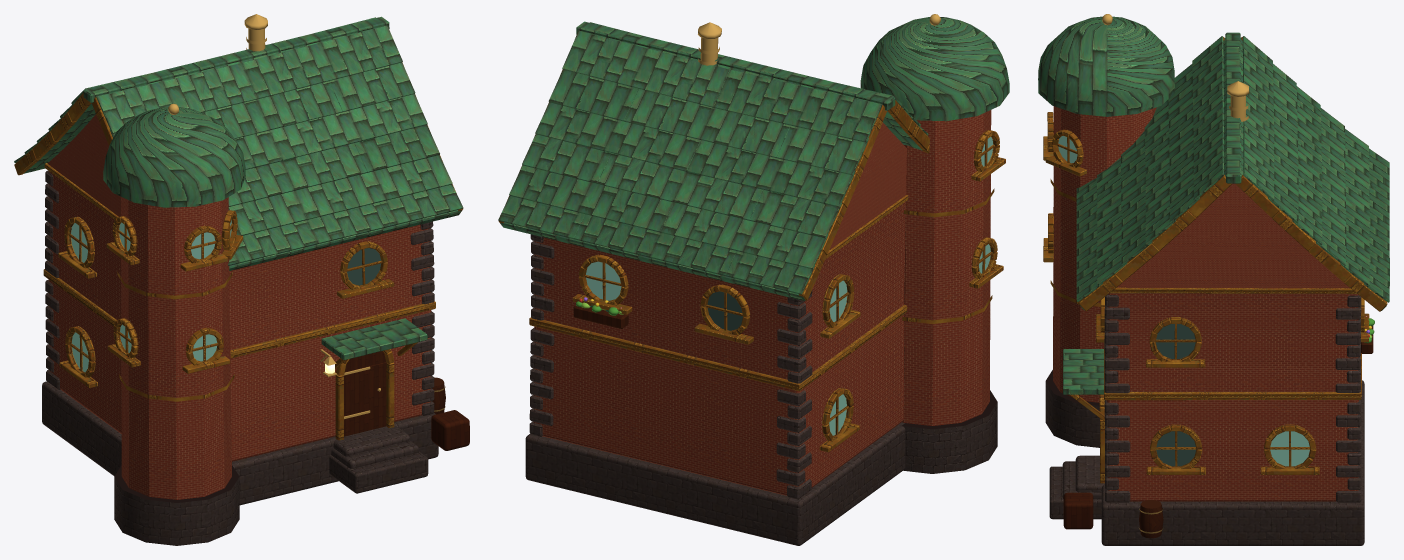
File: steam_house.gltf
The picture shows the model from 3 angles, left to right: view 1: azimuth 30°, elevation 25°; view 2: azimuth 150°, elevation 25°; view 3: azimuth 270°, elevation 25°; orthographic projection. The views are drawn at different scales.
Parts seen in each view (by area): view 1: steam_house_wall_LOD0, steam_house_roof_LOD0, steam_house_base_LOD0, steam_house_trim_LOD0, steam_house_door_LOD0, steam_house_glow_3A5048_LOD0, steam_house_metal_LOD0, steam_house_glass_LOD0; view 2: steam_house_wall_LOD0, steam_house_roof_LOD0, steam_house_base_LOD0, steam_house_trim_LOD0, steam_house_glow_3A5048_LOD0, steam_house_metal_LOD0, steam_house_glass_LOD0, steam_house_door_LOD0; view 3: steam_house_wall_LOD0, steam_house_roof_LOD0, steam_house_base_LOD0, steam_house_trim_LOD0, steam_house_door_LOD0, steam_house_glass_LOD0, steam_house_glow_3A5048_LOD0, steam_house_metal_LOD0.
Part boxes in pixels (left/top/right/bottom): steam_house_wall_LOD0: left=47, top=114, right=431, bottom=499; steam_house_roof_LOD0: left=14, top=16, right=463, bottom=360; steam_house_base_LOD0: left=42, top=170, right=438, bottom=545; steam_house_trim_LOD0: left=14, top=27, right=463, bottom=440; steam_house_door_LOD0: left=344, top=351, right=469, bottom=450; steam_house_glow_3A5048_LOD0: left=71, top=220, right=231, bottom=372; steam_house_metal_LOD0: left=168, top=14, right=445, bottom=419; steam_house_glass_LOD0: left=347, top=248, right=381, bottom=285; steam_house_wall_LOD0: left=533, top=110, right=991, bottom=495; steam_house_roof_LOD0: left=498, top=17, right=1009, bottom=300; steam_house_base_LOD0: left=525, top=234, right=997, bottom=545; steam_house_trim_LOD0: left=498, top=32, right=1005, bottom=452; steam_house_glow_3A5048_LOD0: left=586, top=137, right=993, bottom=435; steam_house_metal_LOD0: left=698, top=14, right=940, bottom=65; steam_house_glass_LOD0: left=707, top=291, right=742, bottom=330; steam_house_door_LOD0: left=573, top=305, right=628, bottom=328; steam_house_wall_LOD0: left=1053, top=106, right=1358, bottom=501; steam_house_roof_LOD0: left=1038, top=16, right=1389, bottom=394; steam_house_base_LOD0: left=1045, top=294, right=1364, bottom=545; steam_house_trim_LOD0: left=1043, top=37, right=1387, bottom=483; steam_house_door_LOD0: left=1063, top=326, right=1373, bottom=538; steam_house_glass_LOD0: left=1156, top=324, right=1195, bottom=466; steam_house_glow_3A5048_LOD0: left=1058, top=136, right=1309, bottom=466; steam_house_metal_LOD0: left=1102, top=14, right=1249, bottom=533.
Size of what is drawn, in the model's own units: 9.84 by 11.15 by 8.63.
Materials: 10 (5 with a texture image).
